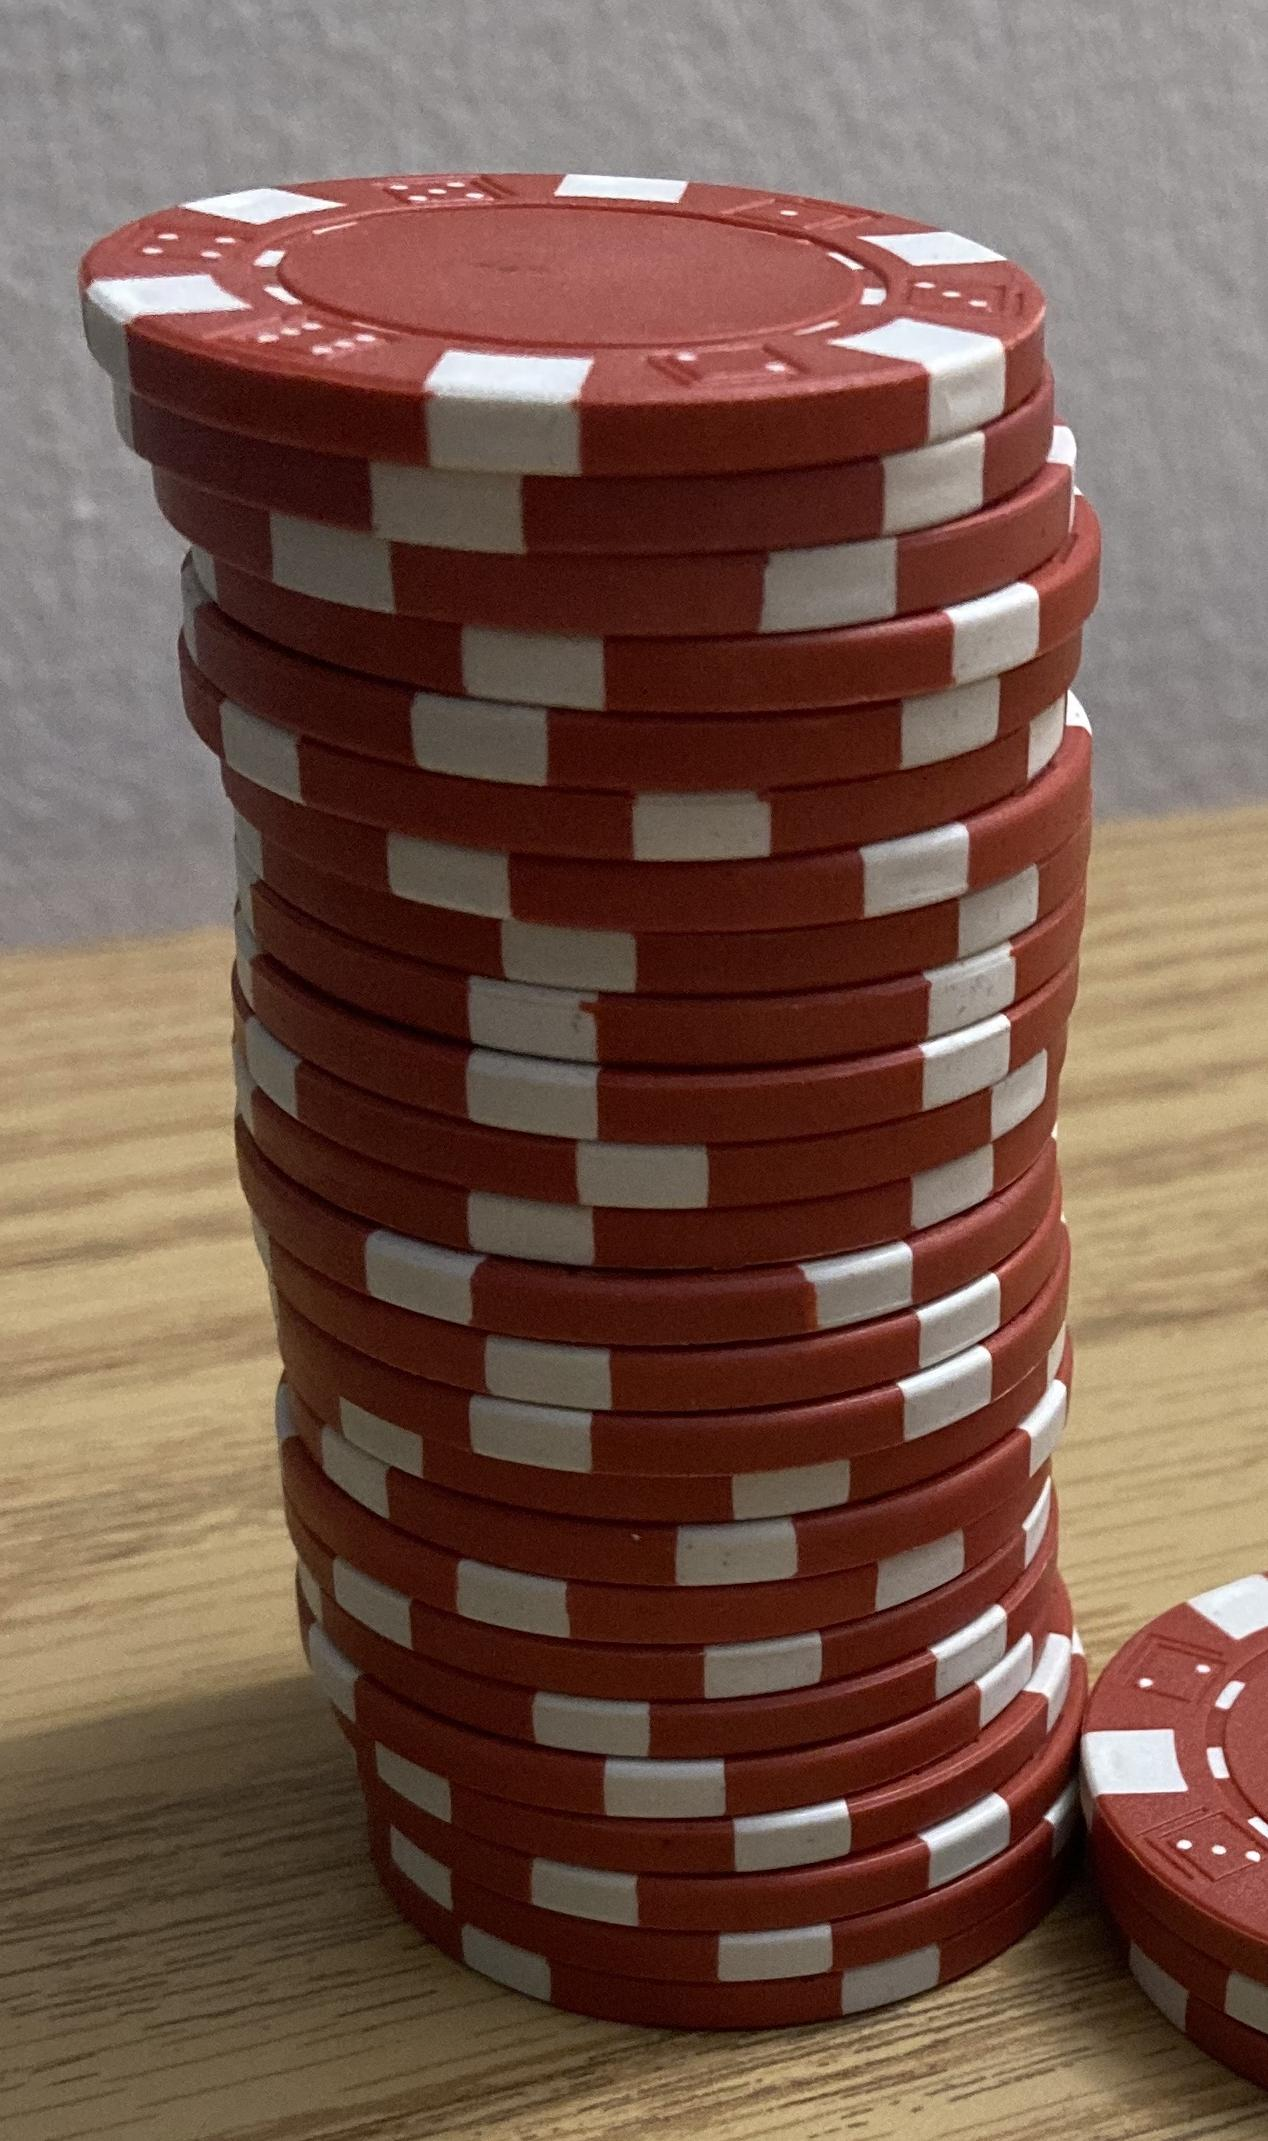Chip: (2, 2, 1268, 2141)
